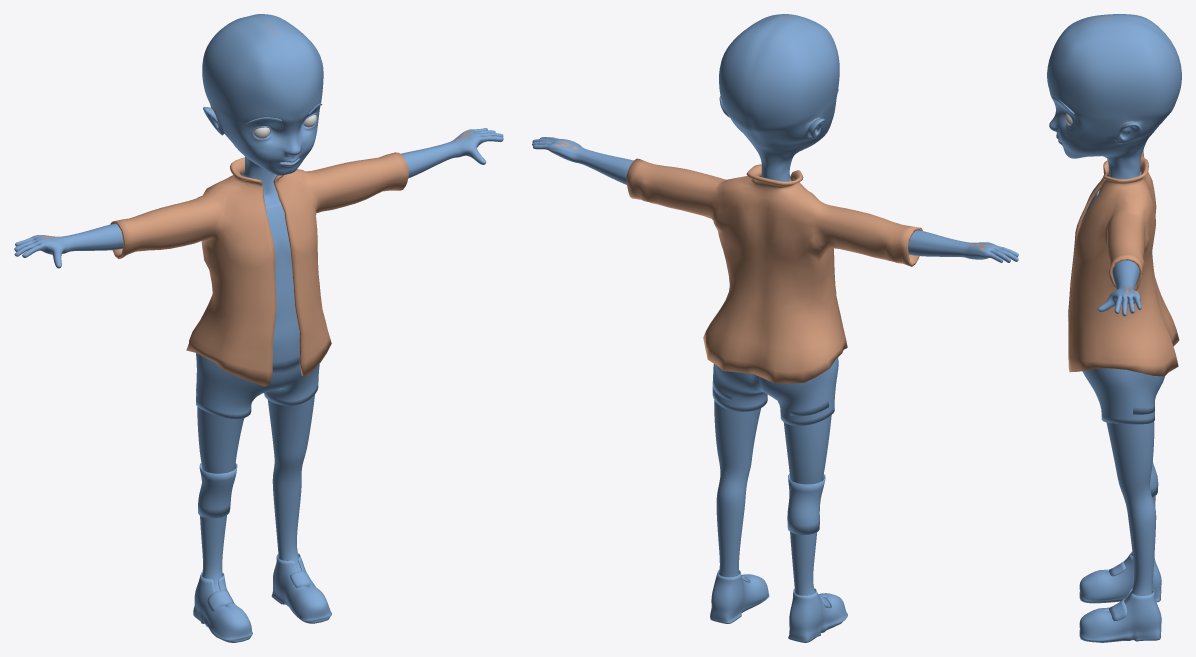
The model's file is Anime2.gltf.
The picture shows the model from 3 angles, left to right: view 1: azimuth 30°, elevation 25°; view 2: azimuth 150°, elevation 25°; view 3: azimuth 270°, elevation 25°; orthographic projection.
Parts seen in each view (by area): view 1: anime boy hair, jacket, shoe, half pant, inner wear, knee pad, inner pant; view 2: jacket, anime boy hair, shoe, half pant, knee pad, inner pant; view 3: anime boy hair, jacket, shoe, half pant, inner pant, knee pad.
Boxes of the visible parts, x1,y1,x2,y2 form: anime boy hair: (14, 14, 503, 605); jacket: (110, 152, 408, 386); shoe: (193, 553, 331, 642); half pant: (196, 353, 319, 418); inner wear: (265, 201, 299, 374); knee pad: (198, 463, 237, 518); inner pant: (196, 354, 319, 404); jacket: (626, 158, 922, 383); anime boy hair: (532, 14, 1018, 595); shoe: (710, 569, 847, 642); half pant: (712, 357, 838, 425); knee pad: (787, 474, 825, 534); inner pant: (712, 366, 835, 416); anime boy hair: (1047, 14, 1181, 602); jacket: (1068, 149, 1179, 376); shoe: (1079, 551, 1161, 642); half pant: (1082, 368, 1164, 424); inner pant: (1084, 369, 1160, 414); knee pad: (1150, 461, 1158, 497).
Size of the model in its own units: 1.58 by 1.85 by 0.3777.
